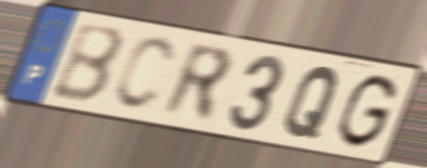3: (226, 53, 287, 133)
B: (48, 22, 126, 107)
C: (111, 34, 178, 114)
G: (334, 72, 400, 152)
Q: (280, 64, 343, 142)
R: (159, 39, 237, 127)
